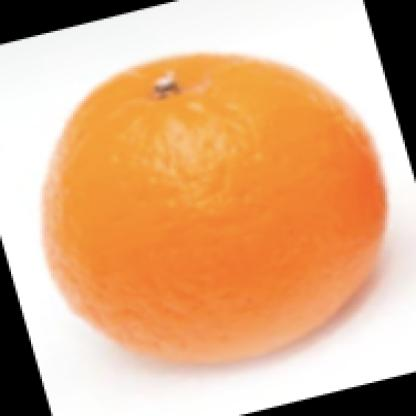fresh: (45, 53, 384, 366)
